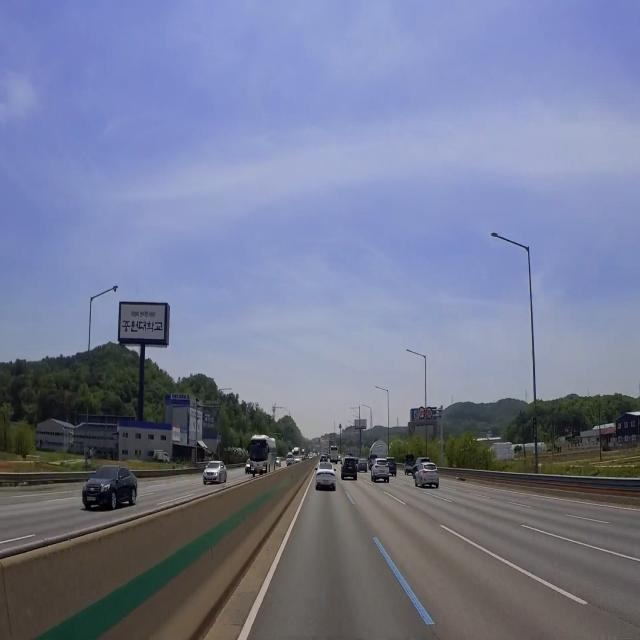car: (85, 491, 98, 510), (345, 460, 356, 476), (321, 473, 331, 490), (376, 467, 387, 479), (204, 472, 216, 482), (425, 473, 437, 483), (253, 465, 263, 476)
